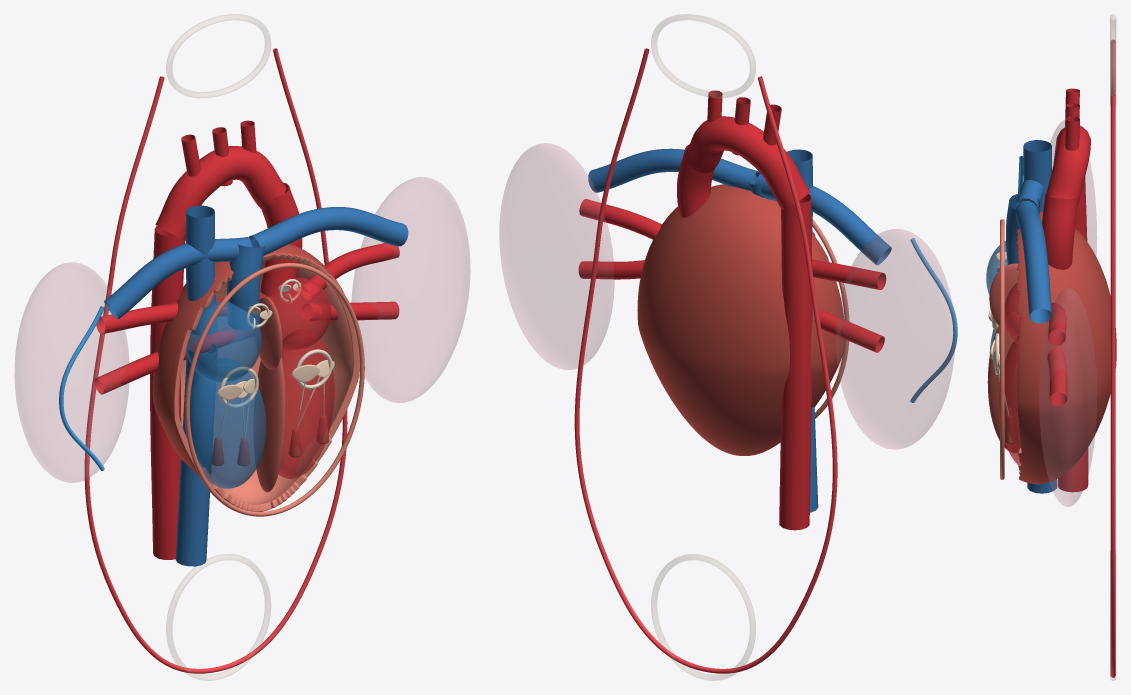
File: heart-circulation-v3.0-core.glb
The picture shows the model from 3 angles, left to right: view 1: azimuth 30°, elevation 25°; view 2: azimuth 150°, elevation 25°; view 3: azimuth 270°, elevation 25°; orthographic projection.
Parts seen in each view (by area): view 1: HRT_Myocardium_Shell, CTX_Right_Lung, CTX_Left_Lung, CHM_Right_Ventricle, CTX_Systemic_Capillary_Bed, VES_Inferior_Vena_Cava, VES_Descending_Aorta, CHM_Left_Ventricle, VES_Aortic_Arch, CHM_Right_Atrium, VES_Left_Pulmonary_Artery, HRT_Cut_Rim (+14 smaller); view 2: HRT_Myocardium_Shell, CTX_Right_Lung, CTX_Left_Lung, VES_Descending_Aorta, CTX_Systemic_Capillary_Bed, VES_Aortic_Arch, VES_Left_Pulmonary_Artery, VES_Right_Pulmonary_Artery, CTX_Lower_Body, CTX_Upper_Body, VES_Ascending_Aorta, VES_Left_Pulmonary_Vein_Superior (+5 smaller); view 3: HRT_Myocardium_Shell, CTX_Left_Lung, CTX_Systemic_Capillary_Bed, VES_Left_Pulmonary_Artery, SEP_Interventricular, VES_Aortic_Arch, VES_Ascending_Aorta, CHM_Left_Ventricle, HRT_Cut_Rim, VES_Superior_Vena_Cava, VES_Descending_Aorta, SEP_Interatrial (+13 smaller).
Part boxes in pixels (box(x1,y1,x2,y2)): HRT_Myocardium_Shell: box(152, 244, 359, 511); CTX_Right_Lung: box(14, 262, 129, 482); CTX_Left_Lung: box(351, 177, 470, 402); CHM_Right_Ventricle: box(184, 358, 266, 488); CTX_Systemic_Capillary_Bed: box(84, 48, 347, 673); VES_Inferior_Vena_Cava: box(175, 343, 217, 566); VES_Descending_Aorta: box(150, 226, 185, 559); CHM_Left_Ventricle: box(278, 329, 334, 478); VES_Aortic_Arch: box(155, 146, 286, 240); CHM_Right_Atrium: box(186, 300, 261, 382); VES_Left_Pulmonary_Artery: box(248, 207, 408, 255); HRT_Cut_Rim: box(185, 263, 364, 516); HRT_Myocardium_Shell: box(637, 184, 844, 455); CTX_Right_Lung: box(836, 229, 954, 449); CTX_Left_Lung: box(499, 143, 614, 369); VES_Descending_Aorta: box(779, 194, 812, 530); CTX_Systemic_Capillary_Bed: box(574, 48, 837, 673); VES_Aortic_Arch: box(686, 116, 809, 209); VES_Left_Pulmonary_Artery: box(588, 148, 760, 192); VES_Right_Pulmonary_Artery: box(754, 174, 891, 265); CTX_Lower_Body: box(651, 554, 755, 680); CTX_Upper_Body: box(651, 14, 755, 97); VES_Ascending_Aorta: box(677, 144, 714, 217); VES_Left_Pulmonary_Vein_Superior: box(579, 199, 661, 239); HRT_Myocardium_Shell: box(1016, 211, 1116, 484); CTX_Left_Lung: box(1039, 288, 1096, 506); CTX_Systemic_Capillary_Bed: box(1110, 39, 1115, 677); VES_Left_Pulmonary_Artery: box(1015, 201, 1052, 323); SEP_Interventricular: box(987, 312, 1020, 452); VES_Aortic_Arch: box(1046, 126, 1090, 205); VES_Ascending_Aorta: box(1042, 193, 1077, 269); CHM_Left_Ventricle: box(999, 336, 1020, 465); HRT_Cut_Rim: box(1000, 219, 1004, 479); VES_Superior_Vena_Cava: box(1023, 140, 1051, 211); VES_Descending_Aorta: box(1058, 177, 1088, 492); SEP_Interatrial: box(989, 263, 1019, 325).
Size of the model in its own units: 0.3205 by 0.4489 by 0.0812.
